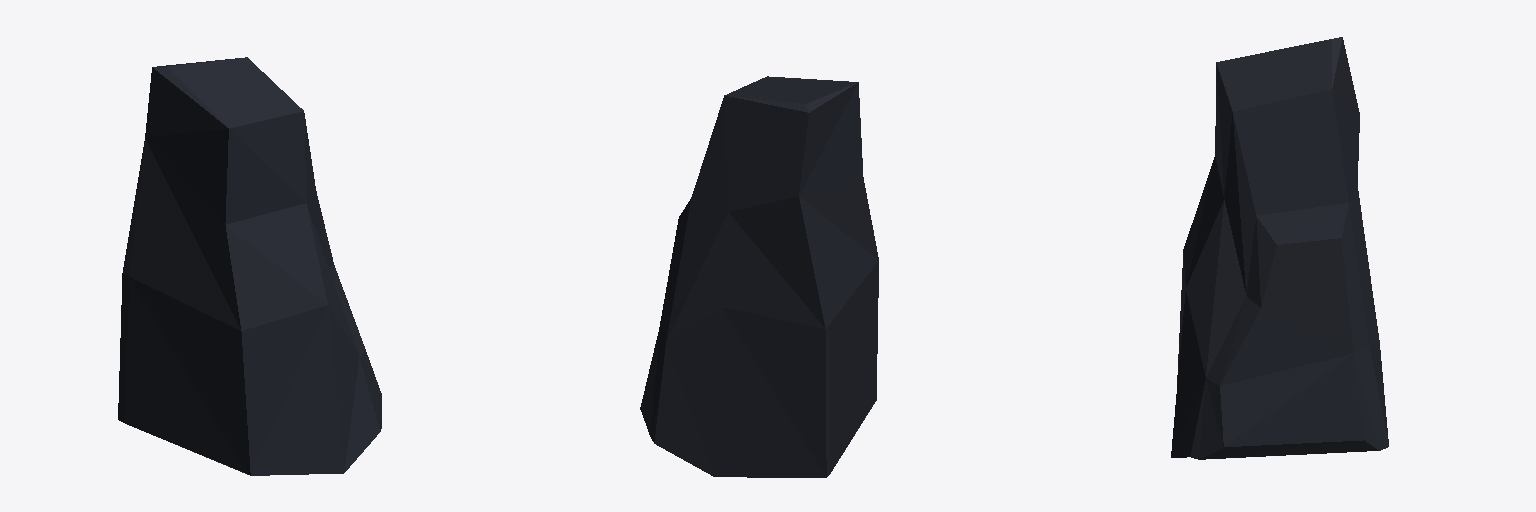
Rendered from Rock_1.obj.
3 views of the same model, side by side, from view 1: azimuth 30°, elevation 25°; view 2: azimuth 150°, elevation 25°; view 3: azimuth 270°, elevation 25° (orthographic).
Parts seen in each view (by area): view 1: Rock_1_Cube.018; view 2: Rock_1_Cube.018; view 3: Rock_1_Cube.018.
Boxes of the visible parts, box(x1,y1,x2,y2) form: Rock_1_Cube.018: box(118, 57, 381, 475); Rock_1_Cube.018: box(640, 76, 878, 477); Rock_1_Cube.018: box(1171, 37, 1388, 459).
Size of the model in its own units: 0.4853 by 0.8778 by 0.4667.